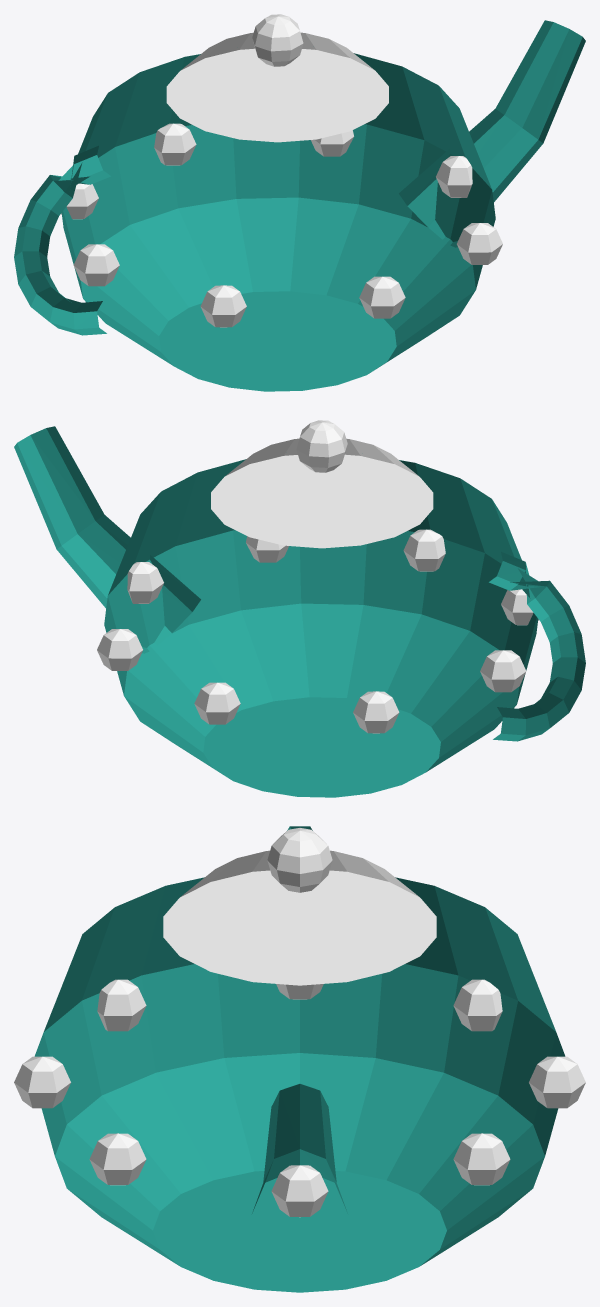
Rendered from tekanna.glb.
3 renders of one model, top to bottom at view 1: azimuth 30°, elevation 25°; view 2: azimuth 150°, elevation 25°; view 3: azimuth 270°, elevation 25°, orthographic. The views are drawn at different scales.
Parts seen in each view (by area): view 1: tekanna; view 2: tekanna; view 3: tekanna.
Boxes of the visible parts, x1=… form: tekanna: x1=14, y1=14, x2=585, y2=391; tekanna: x1=14, y1=420, x2=585, y2=797; tekanna: x1=14, y1=826, x2=585, y2=1292.
Size of the model in its own units: 0.982 by 0.54 by 0.7.
